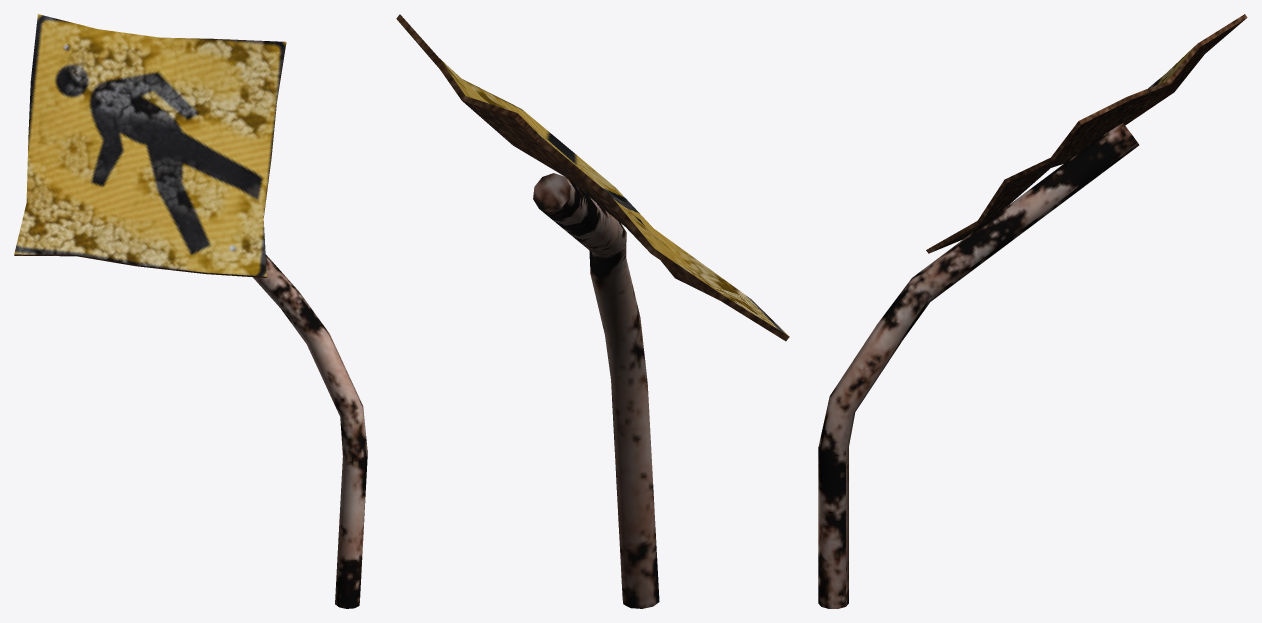
File: prop_traffic_light_placa1.glb
The picture shows the model from 3 angles, left to right: view 1: azimuth 30°, elevation 25°; view 2: azimuth 150°, elevation 25°; view 3: azimuth 270°, elevation 25°; orthographic projection. The views are drawn at different scales.
Parts seen in each view (by area): view 1: prop_traffic_light_placa1_mesh; view 2: prop_traffic_light_placa1_mesh; view 3: prop_traffic_light_placa1_mesh.
Boxes of the visible parts, <box> form: prop_traffic_light_placa1_mesh: <box>14,14,367,608</box>; prop_traffic_light_placa1_mesh: <box>396,14,789,608</box>; prop_traffic_light_placa1_mesh: <box>818,14,1247,608</box>.
Size of the model in its own units: 1.52 by 2.6 by 1.93.
1 material, 1 textured.
